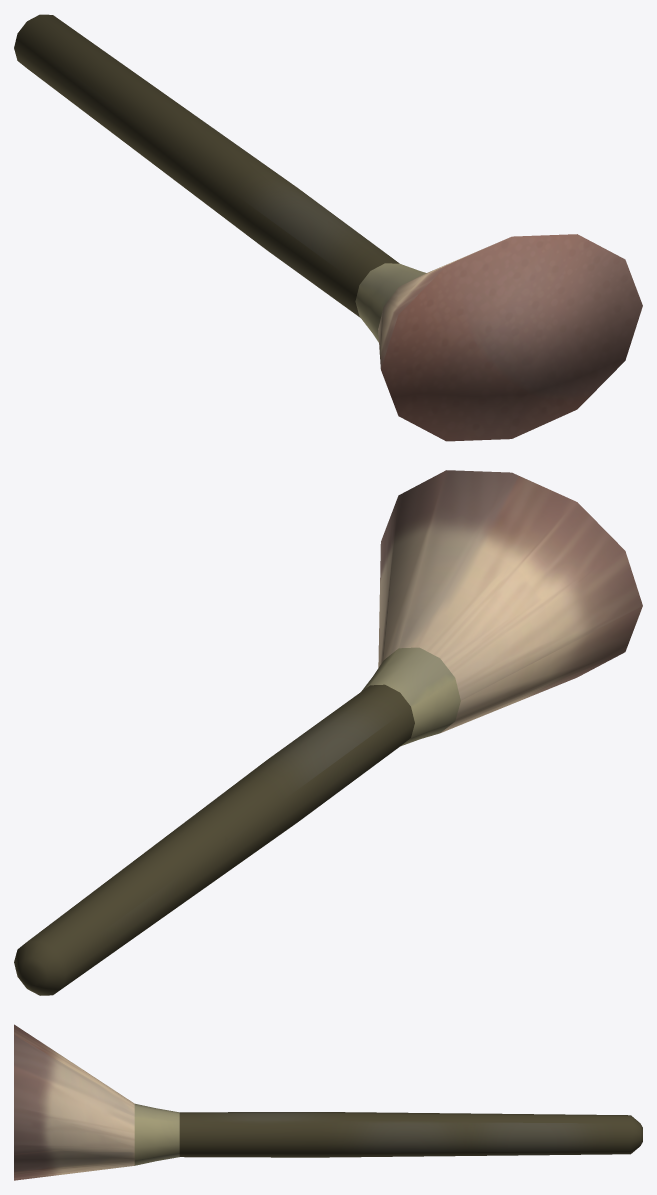
Rendered from MEIKKIHARJA.fbx.
The picture shows the model from 3 angles, top to bottom: view 1: azimuth 30°, elevation 25°; view 2: azimuth 150°, elevation 25°; view 3: azimuth 270°, elevation 25°; orthographic projection. The views are drawn at different scales.
Parts seen in each view (by area): view 1: meikkiharja_harjaosa, meikkiharja_varsi; view 2: meikkiharja_harjaosa, meikkiharja_varsi; view 3: meikkiharja_varsi, meikkiharja_harjaosa.
Part boxes in pixels (x1,y1,x2,y2): meikkiharja_harjaosa: (378,234,642,441); meikkiharja_varsi: (14,14,426,342); meikkiharja_harjaosa: (378,470,642,732); meikkiharja_varsi: (14,647,460,995); meikkiharja_varsi: (134,1103,642,1165); meikkiharja_harjaosa: (14,1024,134,1180).
Size of the model in its own units: 5.46 by 4.03 by 17.35.
